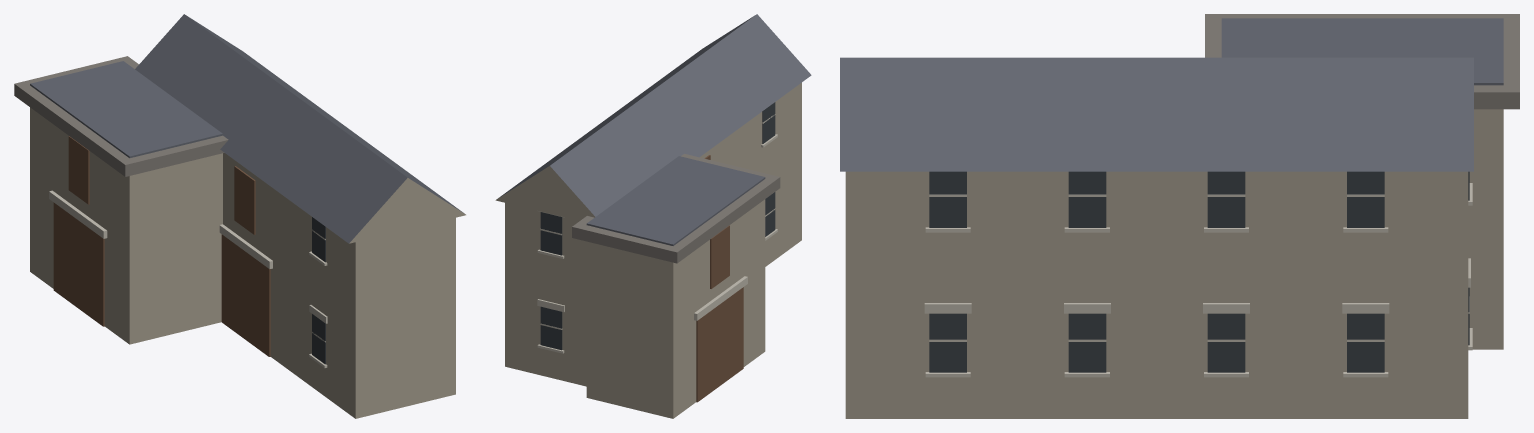
Rendered from house_2120_prairie_coach_house__draft_1904.glb.
3 views of the same model, side by side, from view 1: azimuth 30°, elevation 25°; view 2: azimuth 150°, elevation 25°; view 3: azimuth 270°, elevation 25° (orthographic). The views are drawn at different scales.
Visible parts, largest first — view 1: house_2120_prairie_coach_house__draft_1904; view 2: house_2120_prairie_coach_house__draft_1904; view 3: house_2120_prairie_coach_house__draft_1904.
Boxes of the visible parts, x1=… form: house_2120_prairie_coach_house__draft_1904: x1=14, y1=14, x2=465, y2=418; house_2120_prairie_coach_house__draft_1904: x1=495, y1=14, x2=811, y2=418; house_2120_prairie_coach_house__draft_1904: x1=840, y1=14, x2=1519, y2=418.
Bounding box in the file's own units: 7.4 × 7.67 × 14.47.
